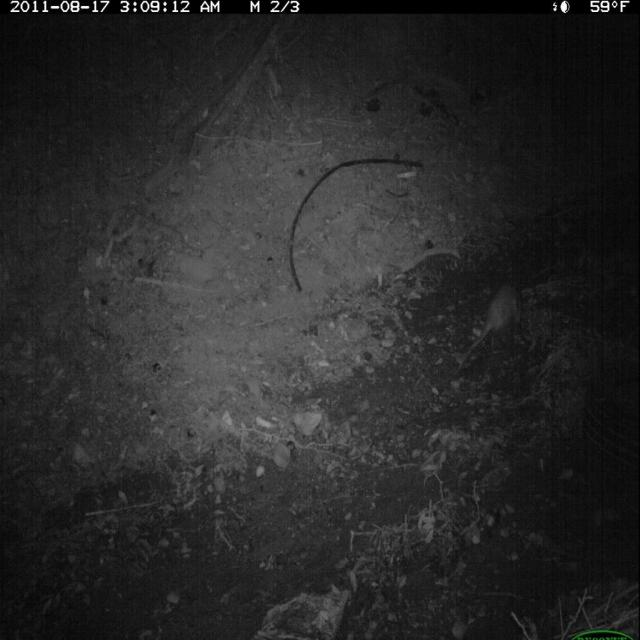opossum: (453, 283, 524, 377)
